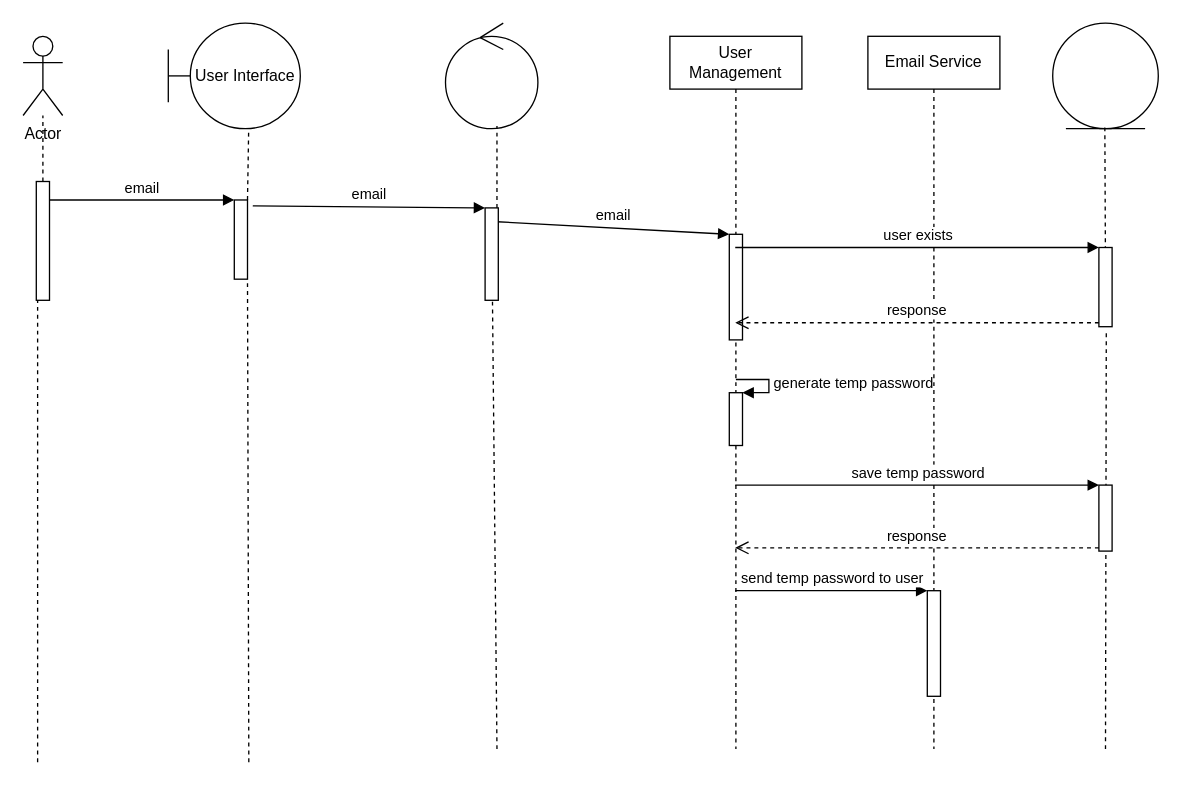
Image size: 1181x787. Some labels were removed from this diagram. The shapes that lost their labels are listed below. From the top down, each one's centre as x and y in pixels, then its label:
At pixel 491 75: "Server Controller".
At pixel 1104 75: "MySQL Database".
